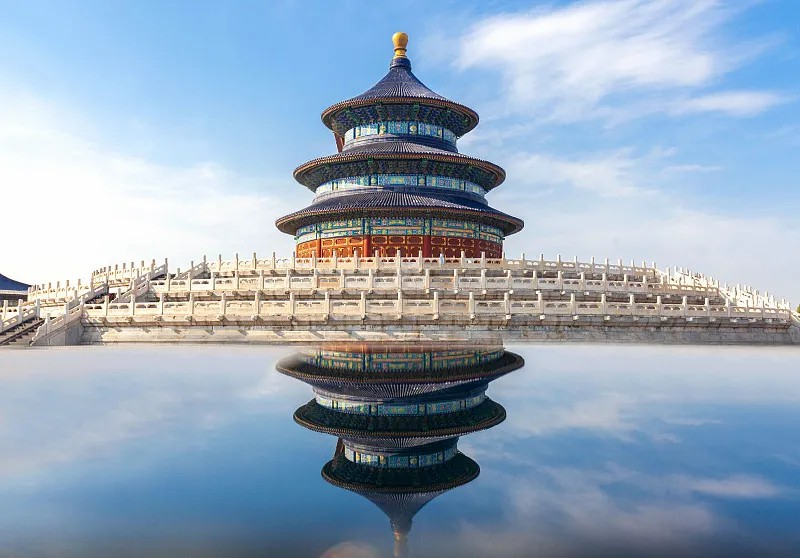Heaven: (274, 30, 525, 259)
